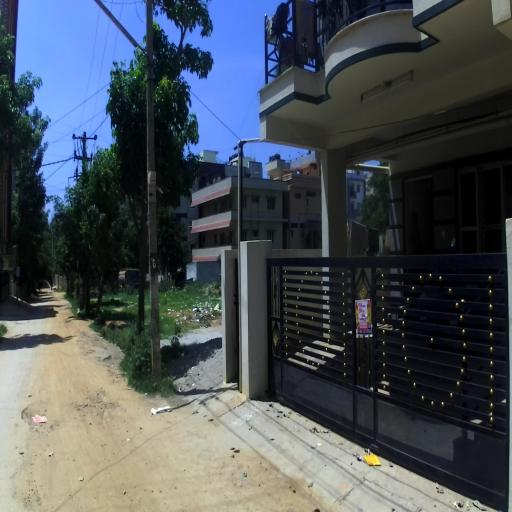street_light_0: (94, 0, 156, 108)
